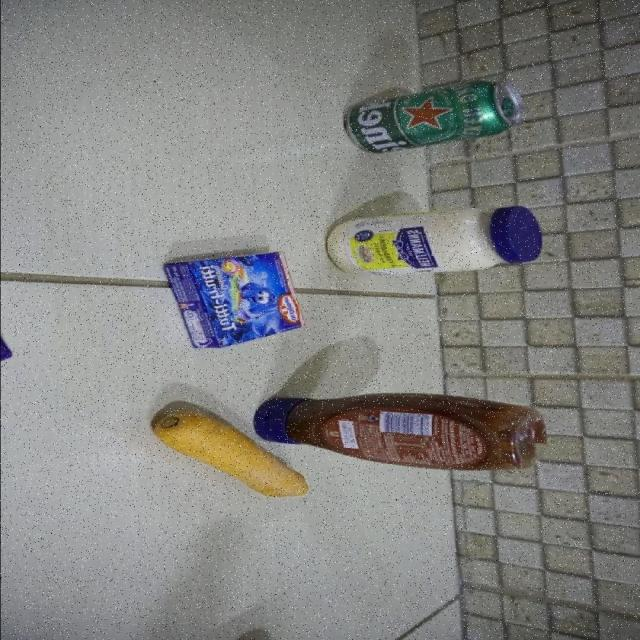BeerCan: (340, 78, 526, 156)
Carrot: (151, 410, 308, 498)
Gelatine: (162, 251, 307, 348)
Ketchup: (251, 392, 548, 470)
Mayonnaise: (320, 204, 545, 275)
